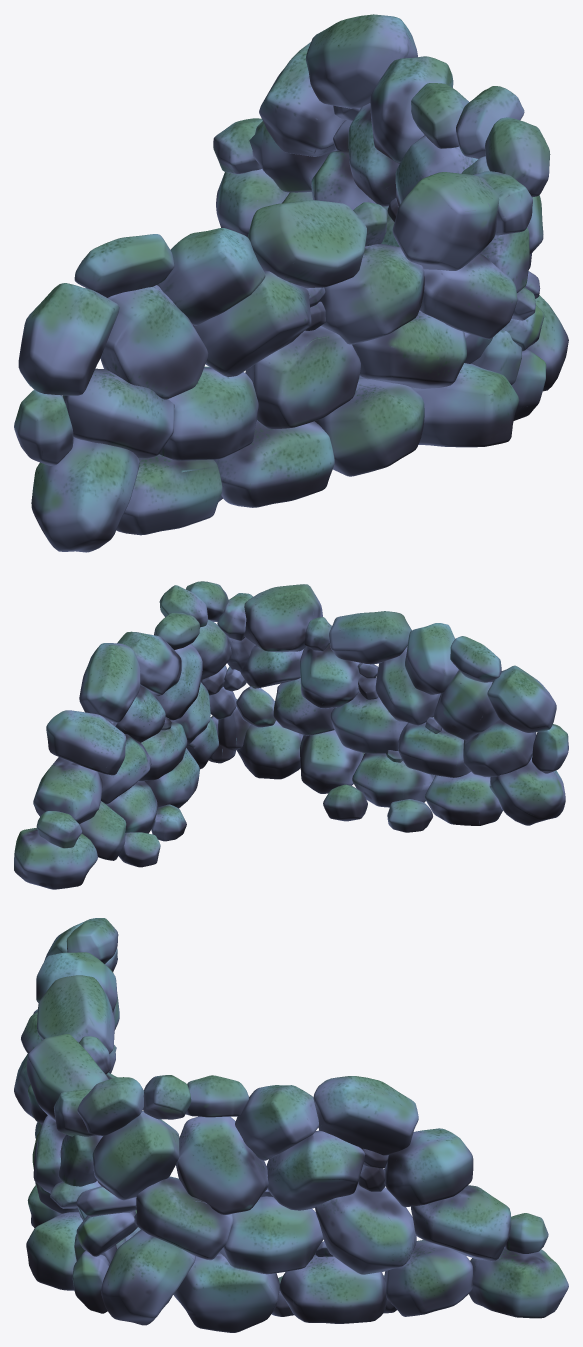
The model's file is RockCorner.fbx.
3 renders of one model, top to bottom at view 1: azimuth 30°, elevation 25°; view 2: azimuth 150°, elevation 25°; view 3: azimuth 270°, elevation 25°, orthographic. The views are drawn at different scales.
Visible parts, largest first — view 1: Rock_Corner_Rock_group_2_Rocks_to_stack31; view 2: Rock_Corner_Rock_group_2_Rocks_to_stack31; view 3: Rock_Corner_Rock_group_2_Rocks_to_stack31.
Part boxes in pixels (x1=…): Rock_Corner_Rock_group_2_Rocks_to_stack31: x1=14, y1=14, x2=568, y2=552; Rock_Corner_Rock_group_2_Rocks_to_stack31: x1=14, y1=581, x2=568, y2=889; Rock_Corner_Rock_group_2_Rocks_to_stack31: x1=14, y1=918, x2=568, y2=1332.
Size of the model in its own units: 5.65 by 2.94 by 5.55.
